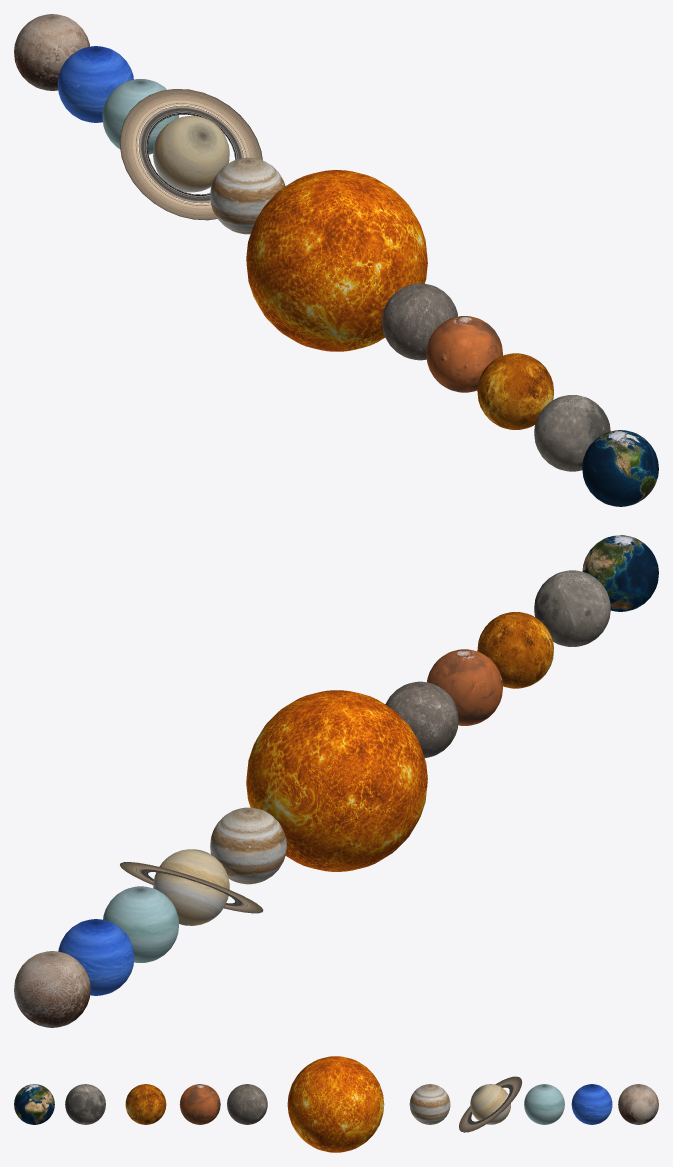
The model's file is simple-solar-system.glb.
3 views of the same model, one above another, from view 1: azimuth 30°, elevation 25°; view 2: azimuth 150°, elevation 25°; view 3: azimuth 270°, elevation 25° (orthographic). The views are drawn at different scales.
Visible parts, largest first — view 1: Sun, Ring, Earth, Venus, Saturn, Mars, Moon, Neptune, Jupiter, Mercury, Pluto, Uranus; view 2: Sun, Pluto, Jupiter, Moon, Venus, Earth, Saturn, Uranus, Mars, Neptune, Mercury, Ring; view 3: Sun, Uranus, Earth, Pluto, Moon, Mars, Neptune, Venus, Jupiter, Mercury, Saturn, Ring.
Boxes of the visible parts, x1,y1,x2,y2 form: Sun: (246, 170, 427, 351); Ring: (119, 89, 262, 220); Earth: (582, 430, 658, 506); Venus: (477, 353, 553, 429); Saturn: (153, 116, 229, 192); Mars: (426, 316, 502, 392); Moon: (534, 395, 610, 471); Neptune: (57, 46, 133, 122); Jupiter: (210, 157, 285, 234); Mercury: (382, 283, 457, 360); Pluto: (14, 14, 89, 90); Uranus: (102, 79, 178, 154); Sun: (246, 690, 427, 871); Pluto: (14, 951, 90, 1027); Jupiter: (210, 807, 286, 884); Moon: (534, 570, 610, 646); Venus: (477, 612, 553, 688); Earth: (582, 535, 658, 611); Saturn: (153, 849, 229, 925); Uranus: (103, 886, 179, 962); Mars: (427, 649, 502, 725); Neptune: (58, 919, 134, 995); Mercury: (385, 681, 458, 757); Ring: (120, 862, 263, 913); Sun: (287, 1056, 384, 1152); Uranus: (524, 1084, 564, 1124); Earth: (14, 1084, 54, 1124); Pluto: (618, 1084, 658, 1124); Moon: (65, 1084, 105, 1124); Mars: (179, 1084, 220, 1124); Neptune: (571, 1084, 612, 1124); Venus: (125, 1084, 166, 1124); Jupiter: (409, 1084, 450, 1124); Mercury: (227, 1084, 267, 1124); Saturn: (470, 1084, 510, 1124); Ring: (459, 1076, 522, 1132).
Bounding box in the file's own units: 4.73 × 4.73 × 31.55.
Materials: 12 (12 with a texture image).
